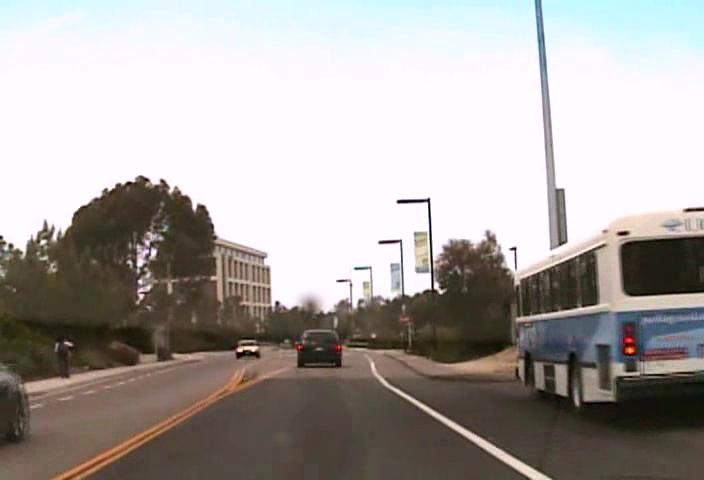stop: (398, 314, 409, 324)
